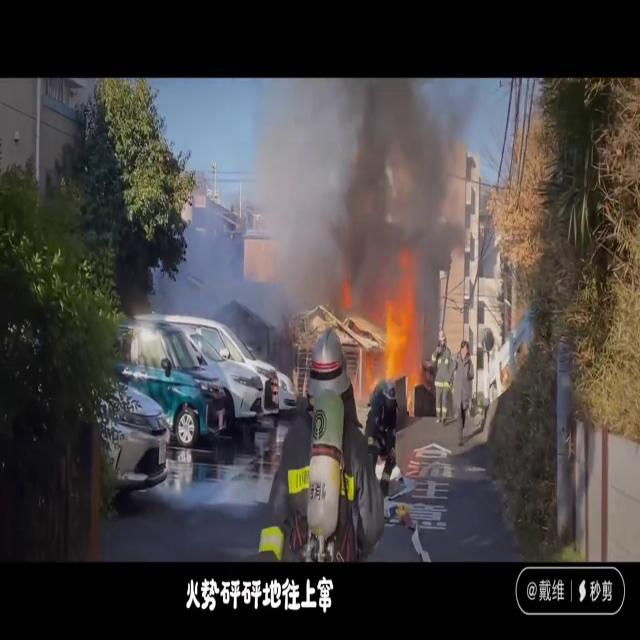Fire: (371, 288, 428, 398)
Smoke: (231, 78, 476, 310)
